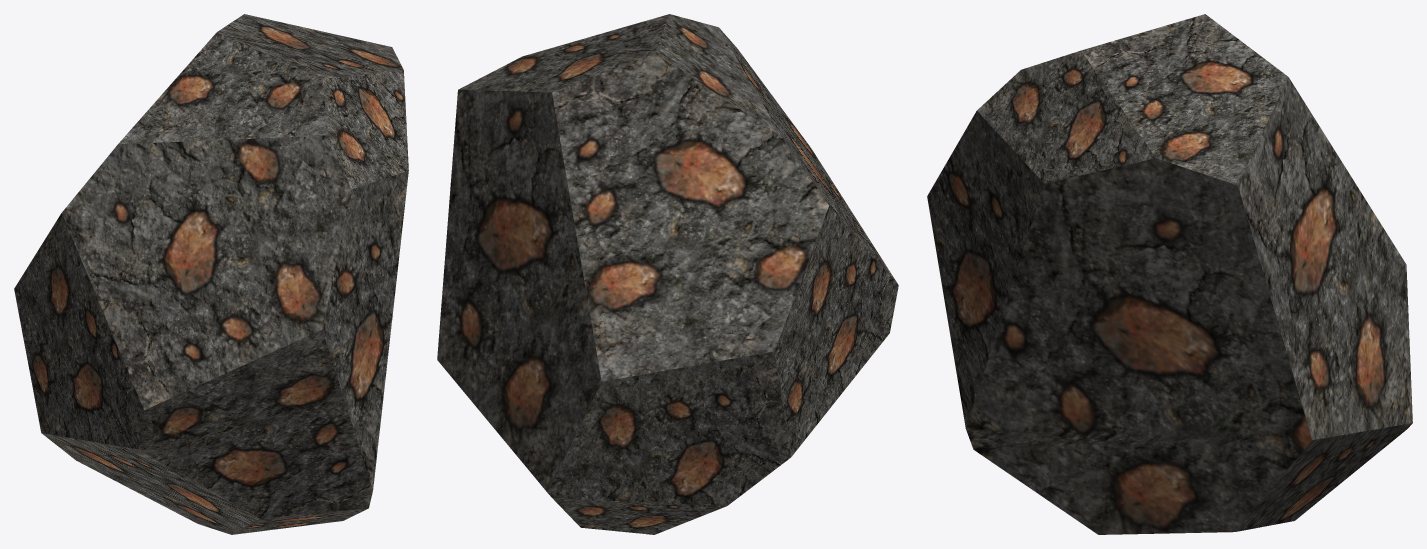
File: iron_ore_6.fbx
3 views of the same model, side by side, from view 1: azimuth 30°, elevation 25°; view 2: azimuth 150°, elevation 25°; view 3: azimuth 270°, elevation 25° (orthographic). The views are drawn at different scales.
Parts seen in each view (by area): view 1: Rock_Type2_01_mesh.002; view 2: Rock_Type2_01_mesh.002; view 3: Rock_Type2_01_mesh.002.
Part boxes in pixels (x1=…): Rock_Type2_01_mesh.002: x1=14, y1=14, x2=408, y2=534; Rock_Type2_01_mesh.002: x1=437, y1=14, x2=898, y2=534; Rock_Type2_01_mesh.002: x1=927, y1=14, x2=1412, y2=534.
Size of the model in its own units: 0.6348 by 0.8357 by 0.7189.
